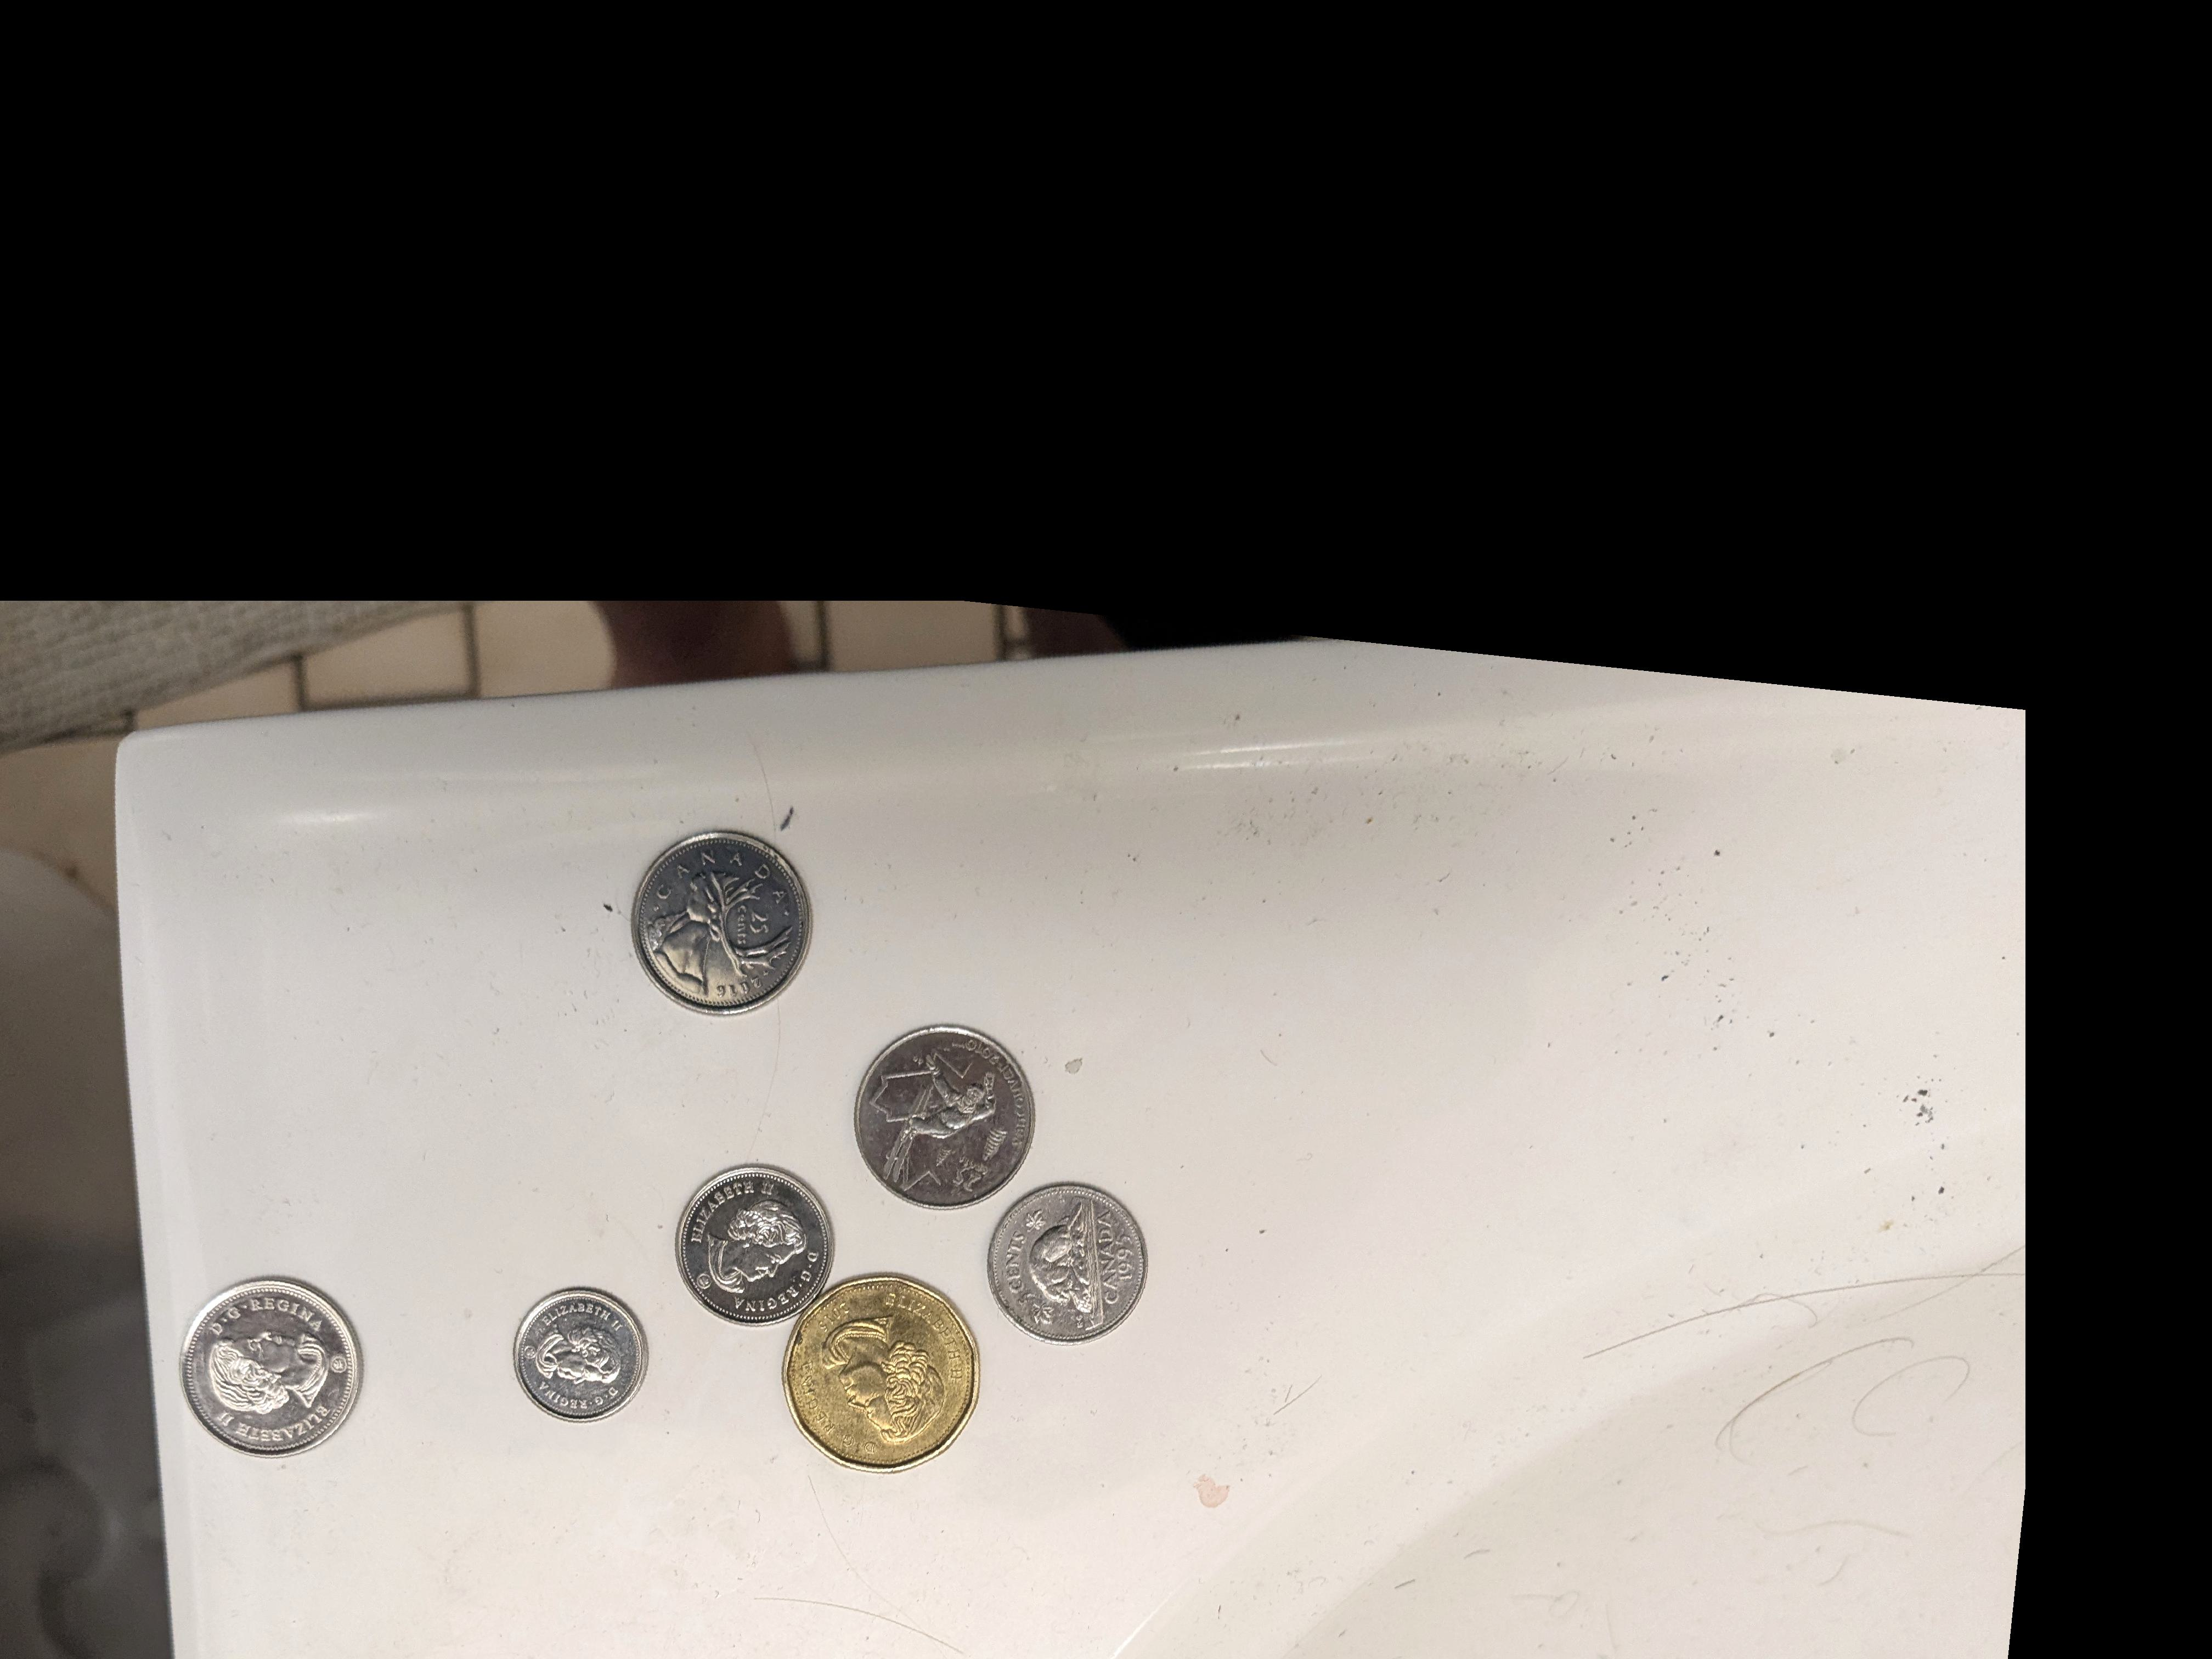dime: (502, 1290, 660, 1424)
loonie: (786, 1277, 982, 1469)
nickel: (671, 1162, 841, 1330), (991, 1176, 1146, 1342)
quarter: (172, 1269, 366, 1466), (632, 828, 819, 1014), (853, 1025, 1035, 1206)
